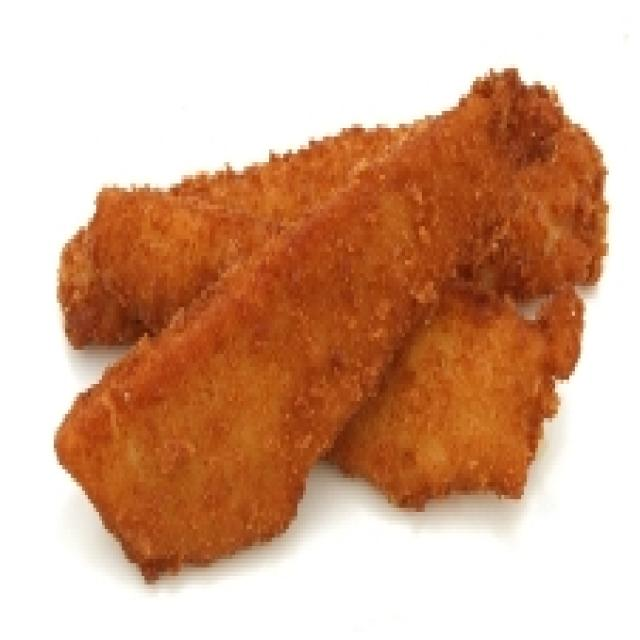炸货点心: (20, 103, 620, 546)
熟制海鲜: (20, 103, 620, 546)
